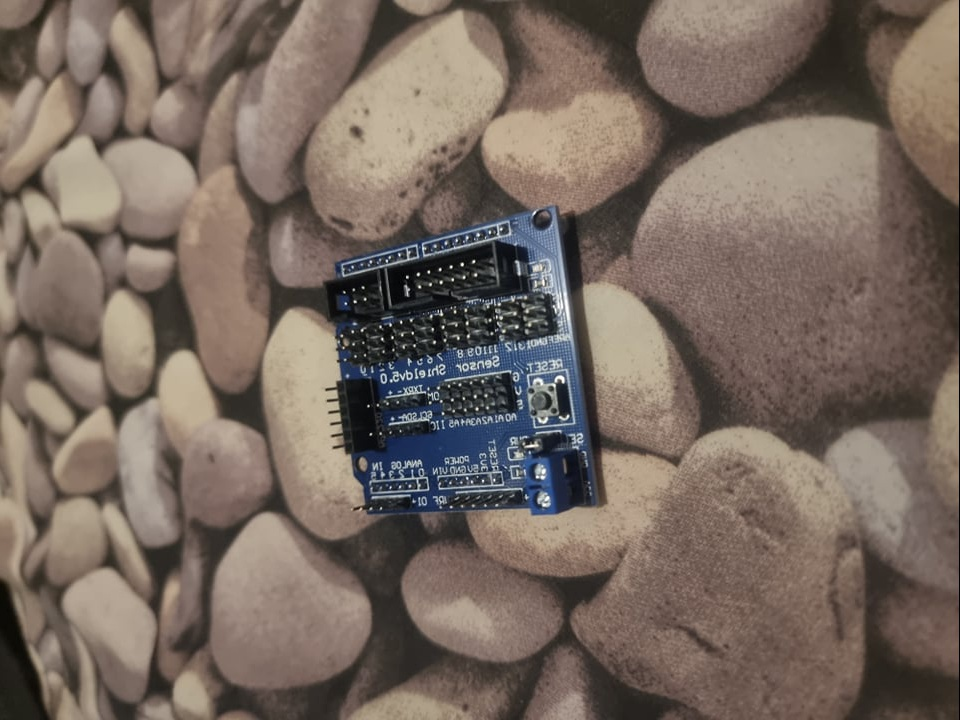5V EXPANSION: (319, 204, 610, 519)
